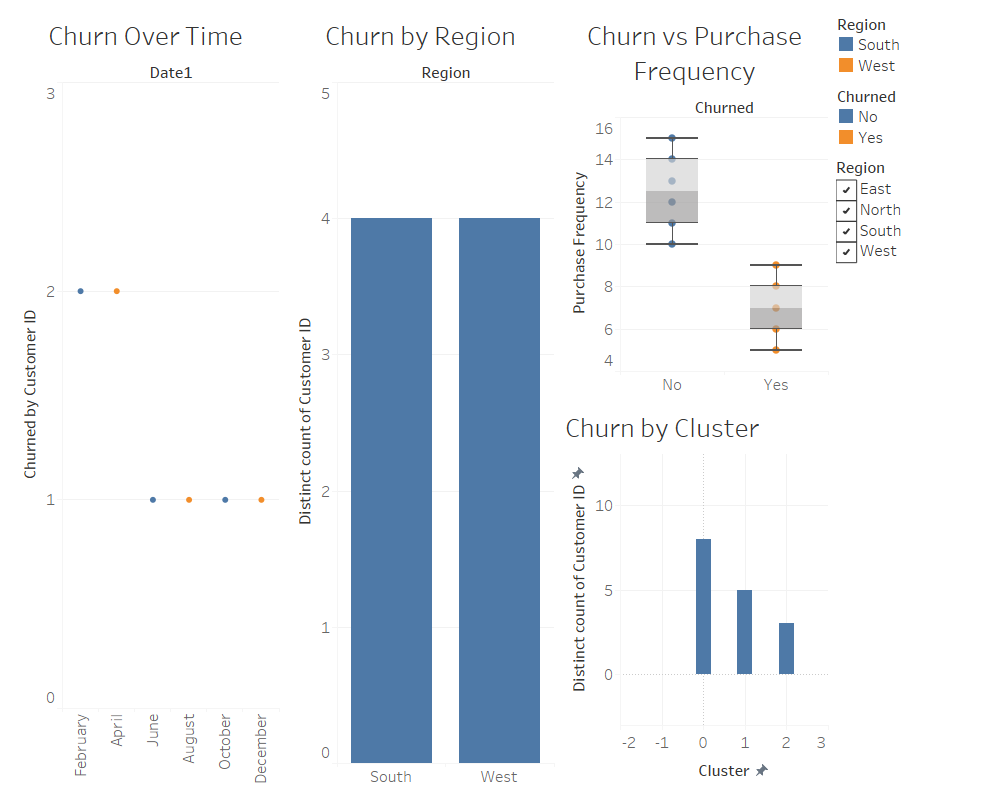

Layout of this report page (visuals, bound fields, positions):
{"tool":"tableau","page":{"name":"Churn Analysis Dashboard","canvas":[1000,800],"ordinal":0},"visuals":[{"type":"worksheet","title":"Churn Over Time","mark":"Line","rows":["Customer_ID"],"cols":["Date"],"box":[8,8,274.7,784]},{"type":"worksheet","title":"Churn by Region","mark":"Bar","rows":["Customer_ID"],"cols":["Region"],"box":[282.7,8,274.7,784]},{"type":"worksheet","title":"Churn vs Purchase Frequency","mark":"Circle","rows":["Purchase_Frequency"],"cols":["Churned"],"box":[557.3,8,274.7,392]},{"type":"legend","title":"Churn Over Time","param":"[federated.11ih5ec0t91gwg18vyc5h02emr7c].[none:Region:nk]","box":[832,8,160,72]},{"type":"legend","title":"Churn vs Purchase Frequency","param":"[federated.11ih5ec0t91gwg18vyc5h02emr7c].[none:Churned:nk]","box":[832,80,160,72]},{"type":"filter","title":"Churn by Region","param":"[federated.11ih5ec0t91gwg18vyc5h02emr7c].[none:Region:nk]","box":[832,152,160,151]},{"type":"worksheet","title":"Churn by Cluster","mark":"Bar","rows":["Customer_ID"],"cols":["Cluster"],"box":[557.3,400,274.7,392]}]}

Visuals, with their boxes in screenshot pixels (x1, y1, x2, y2), scaled from the page's 1000x800 canvas onto the 1000x800 screenshot:
"Churn Over Time" worksheet (Line marks): select_region(8, 8, 283, 792)
"Churn by Region" worksheet (Bar marks): select_region(283, 8, 557, 792)
"Churn vs Purchase Frequency" worksheet (Circle marks): select_region(557, 8, 832, 400)
"Churn Over Time" legend: select_region(832, 8, 992, 80)
"Churn vs Purchase Frequency" legend: select_region(832, 80, 992, 152)
"Churn by Region" filter: select_region(832, 152, 992, 303)
"Churn by Cluster" worksheet (Bar marks): select_region(557, 400, 832, 792)
